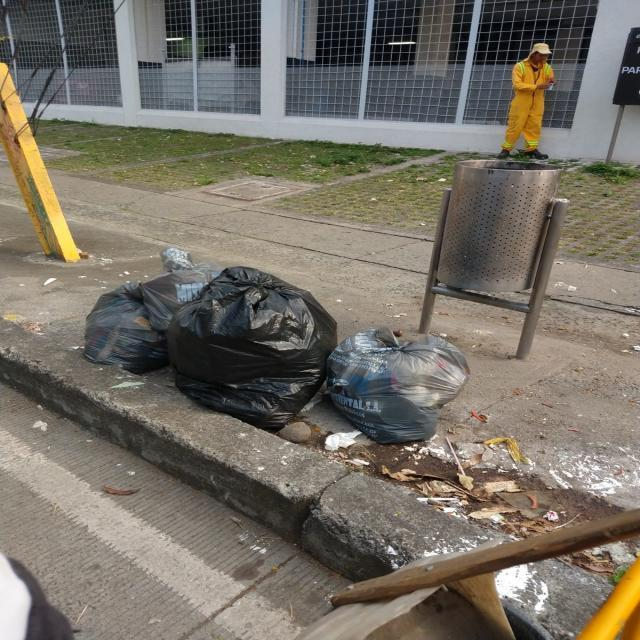Trashbag: (160, 260, 341, 433), (328, 329, 462, 448), (78, 291, 163, 377)
